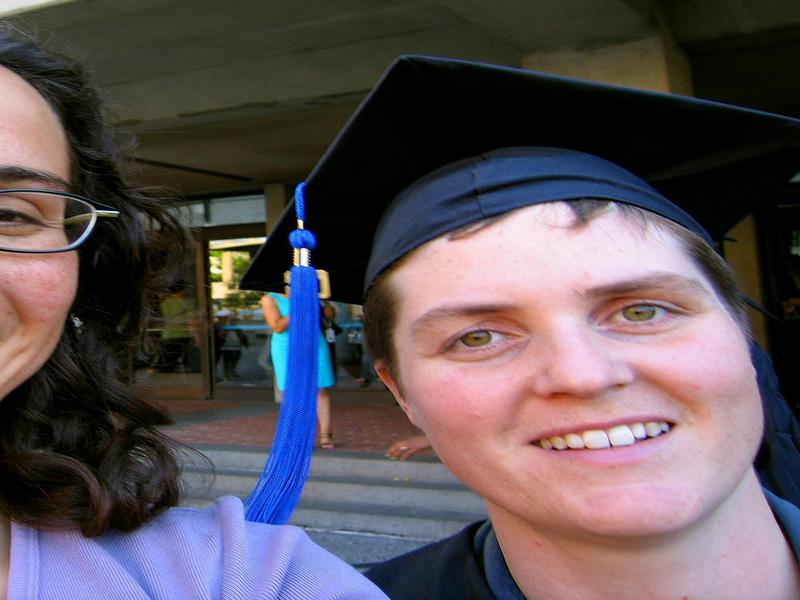person: (236, 52, 799, 600), (1, 29, 393, 600)
